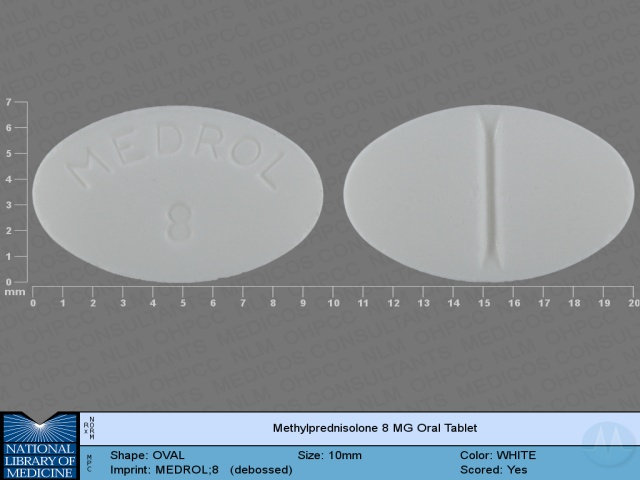8: (163, 197, 196, 247)
D: (146, 121, 188, 162)
L: (255, 155, 299, 195)
M: (61, 145, 114, 194), (110, 126, 152, 170)
O: (229, 132, 263, 169)
R: (192, 117, 230, 164)
|: (466, 98, 517, 282)
